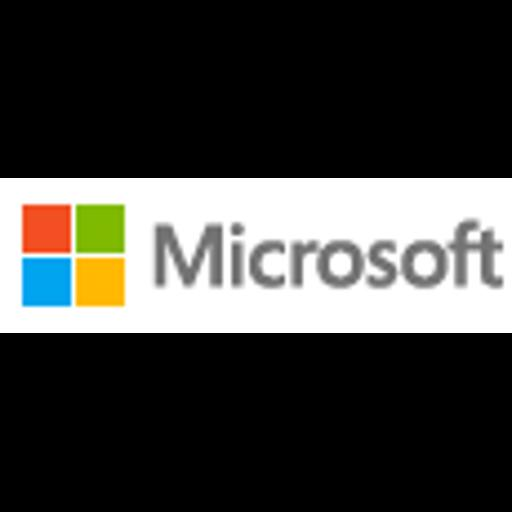Outlook: (0, 178, 512, 333)
